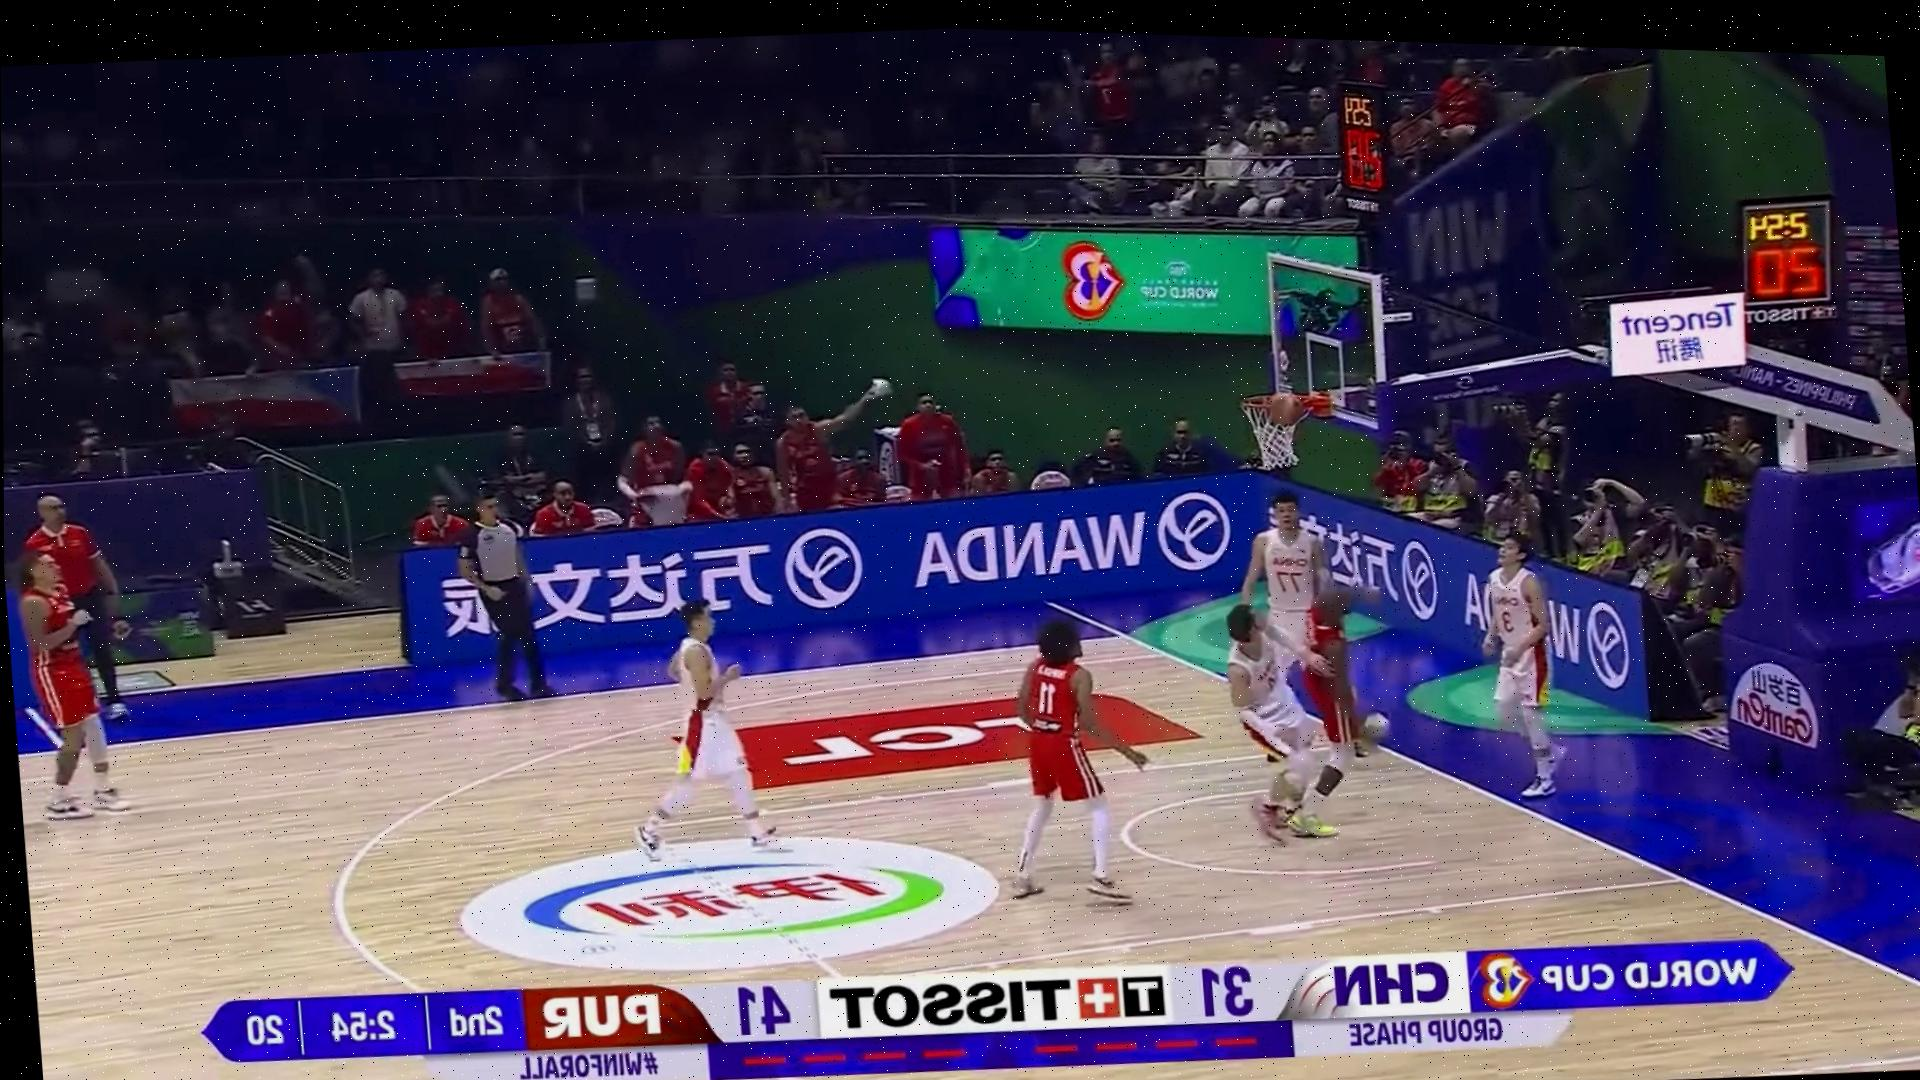foul: (1182, 568, 1395, 845)
